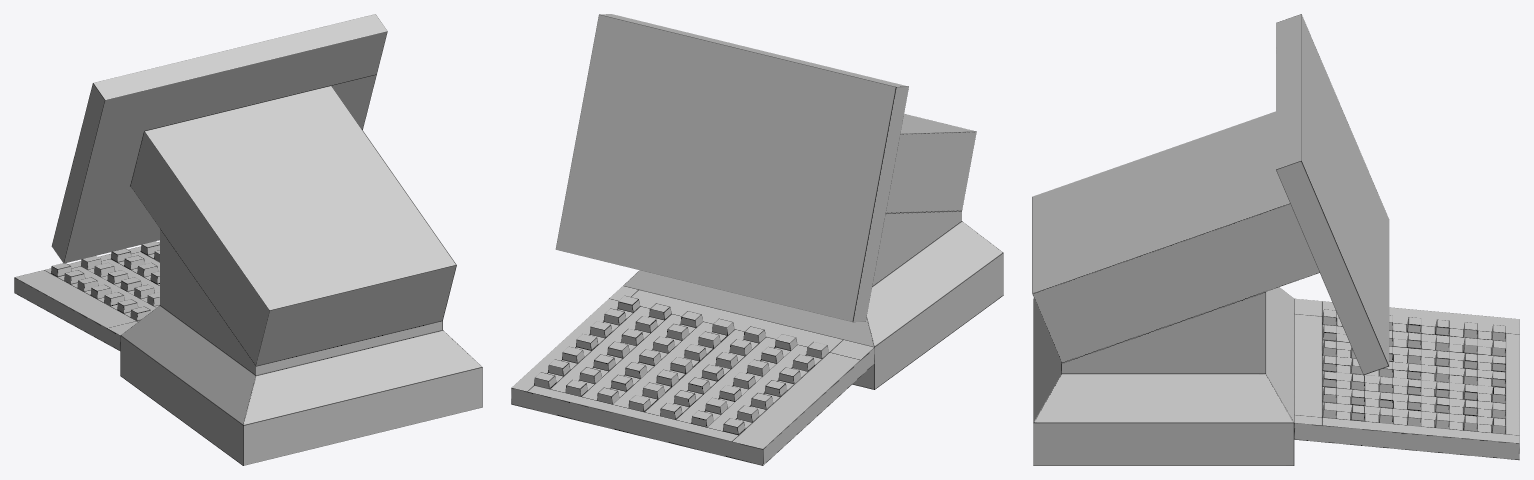
Rendered from computer.obj.
3 renders of one model, left to right at view 1: azimuth 30°, elevation 25°; view 2: azimuth 150°, elevation 25°; view 3: azimuth 270°, elevation 25°, orthographic. The views are drawn at different scales.
Visible parts, largest first — view 1: computer_terminal_optimised_Cube.006; view 2: computer_terminal_optimised_Cube.006; view 3: computer_terminal_optimised_Cube.006.
Boxes of the visible parts, x1,y1,x2,y2 form: computer_terminal_optimised_Cube.006: [14, 14, 482, 465]; computer_terminal_optimised_Cube.006: [511, 14, 1003, 465]; computer_terminal_optimised_Cube.006: [1032, 14, 1519, 465].
Size of the model in its own units: 1.92 by 1.92 by 2.7.
1 material, 1 textured.
